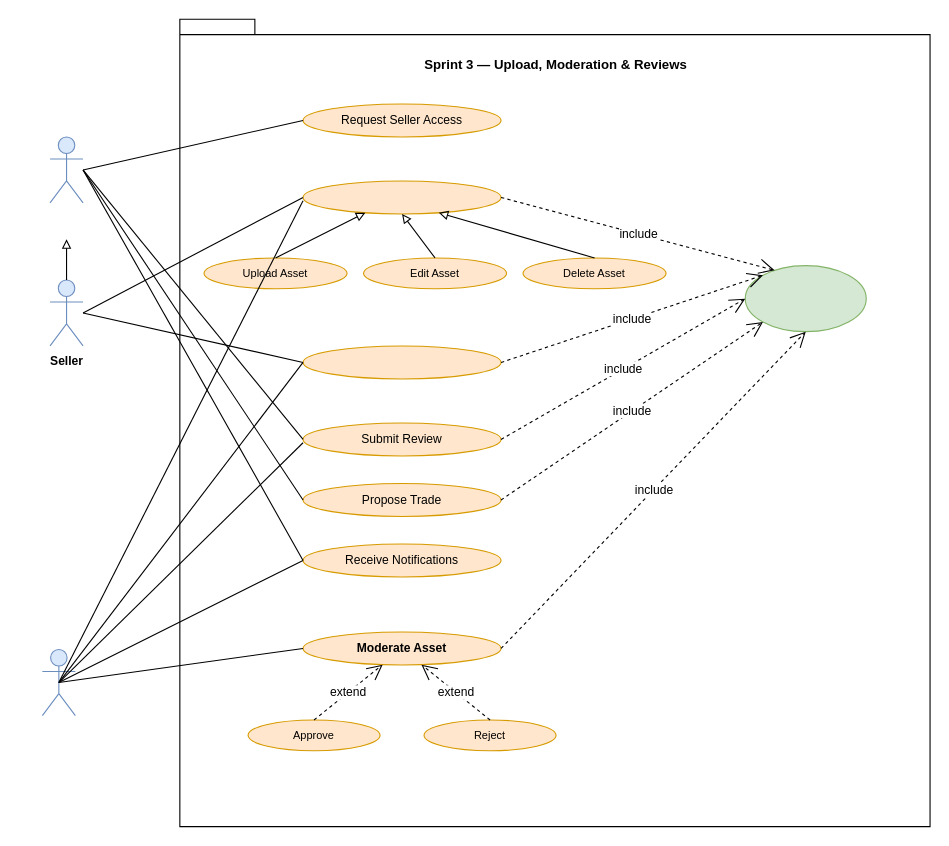
This 949x846 diagram has some shape labels left out. The shapes that lost their labels are listed below. From the top down, each one's centre as x and y in pixels, then its label:
(66,169): Member
(401,197): Manage Asset
(805,298): Authenticate
(401,362): View Creator Studio
(58,682): Administrator
